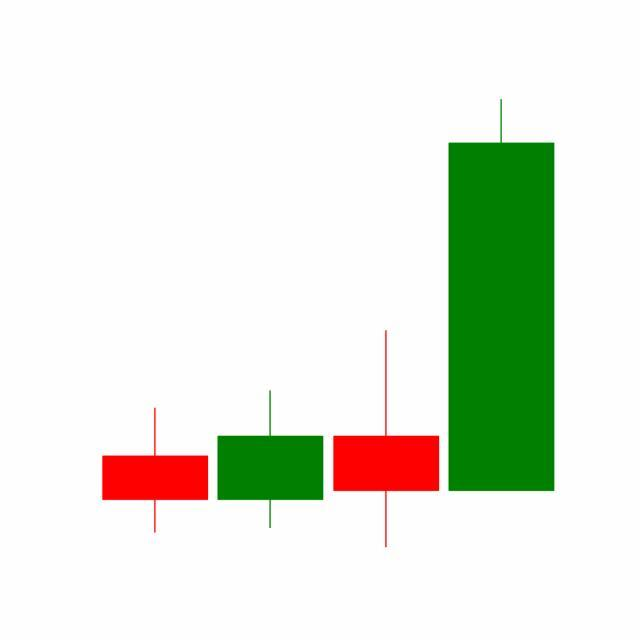Spinning Top: (329, 328, 445, 550)
